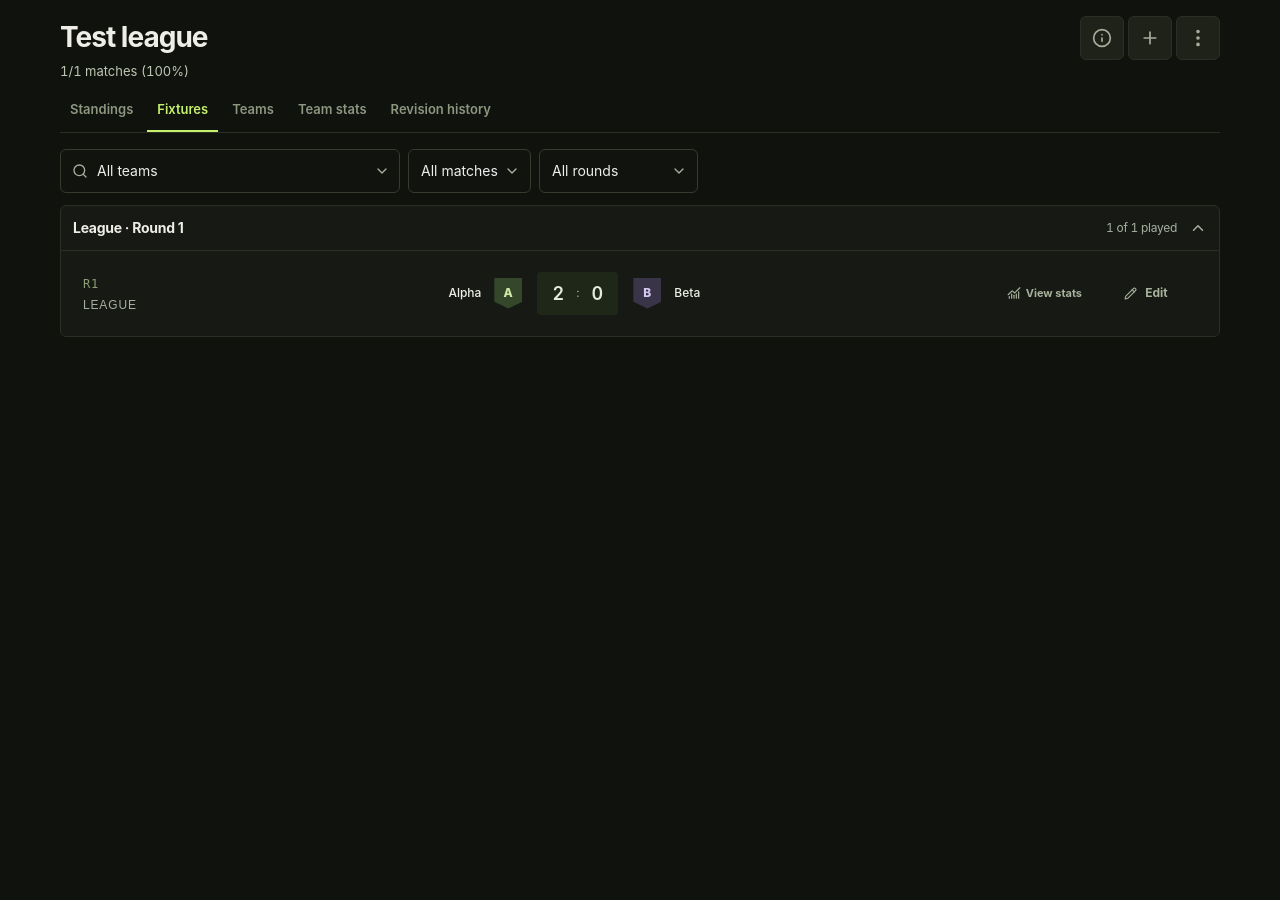
Scenario: fixture stats availability: admin=true, enabled=true, played=true
Click the button with aria-label "View stats: Alpha vs Beta" at (1044, 293), box [998,275,1091,311]
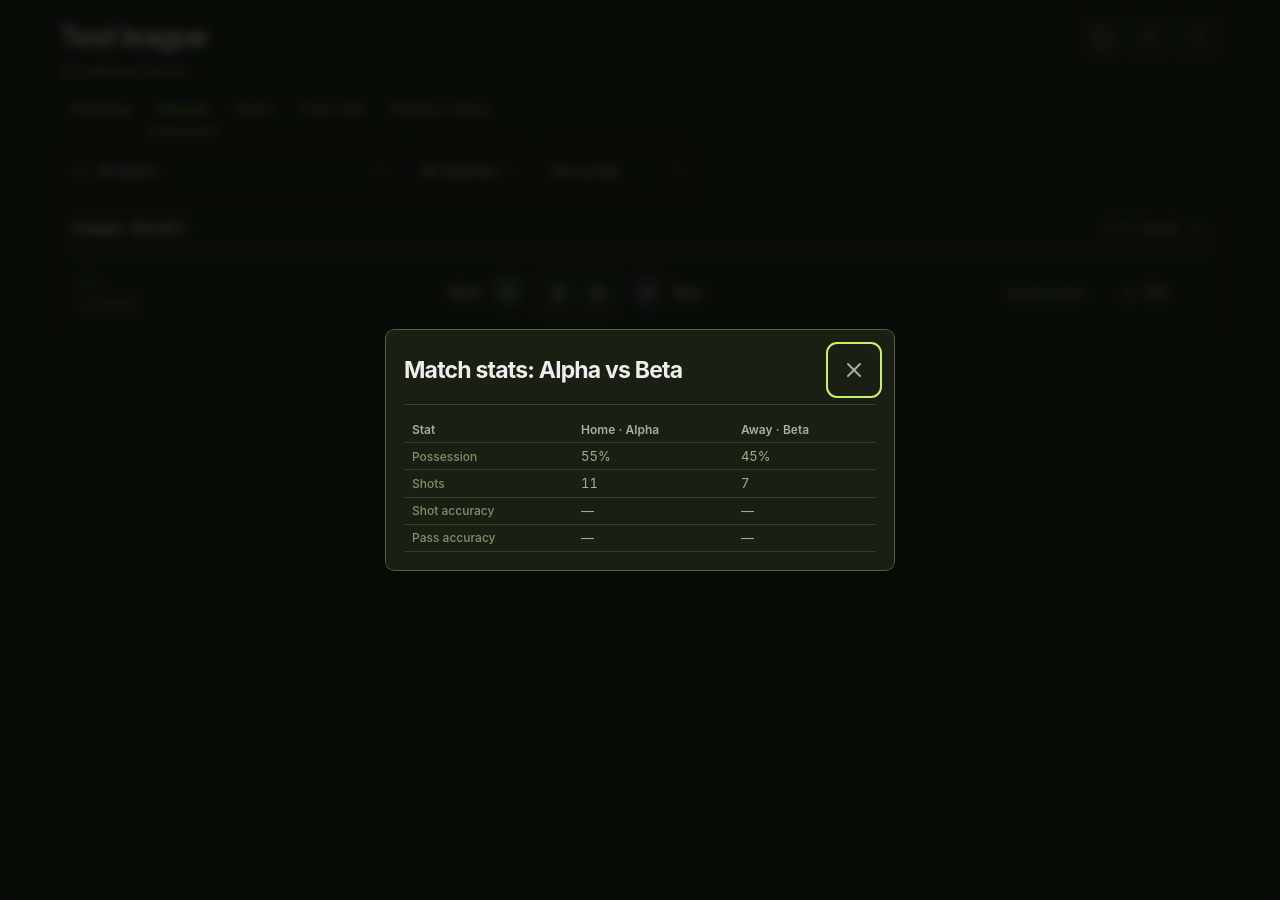
Now the column heading "Possession" is shown, box [404,442,573,470]
Now the text "55%" is shown, box [573,442,733,470]
Now the text "11" is shown, box [573,470,733,497]
Click the button named "Close dialog" at (854, 370), box [832,348,876,392]
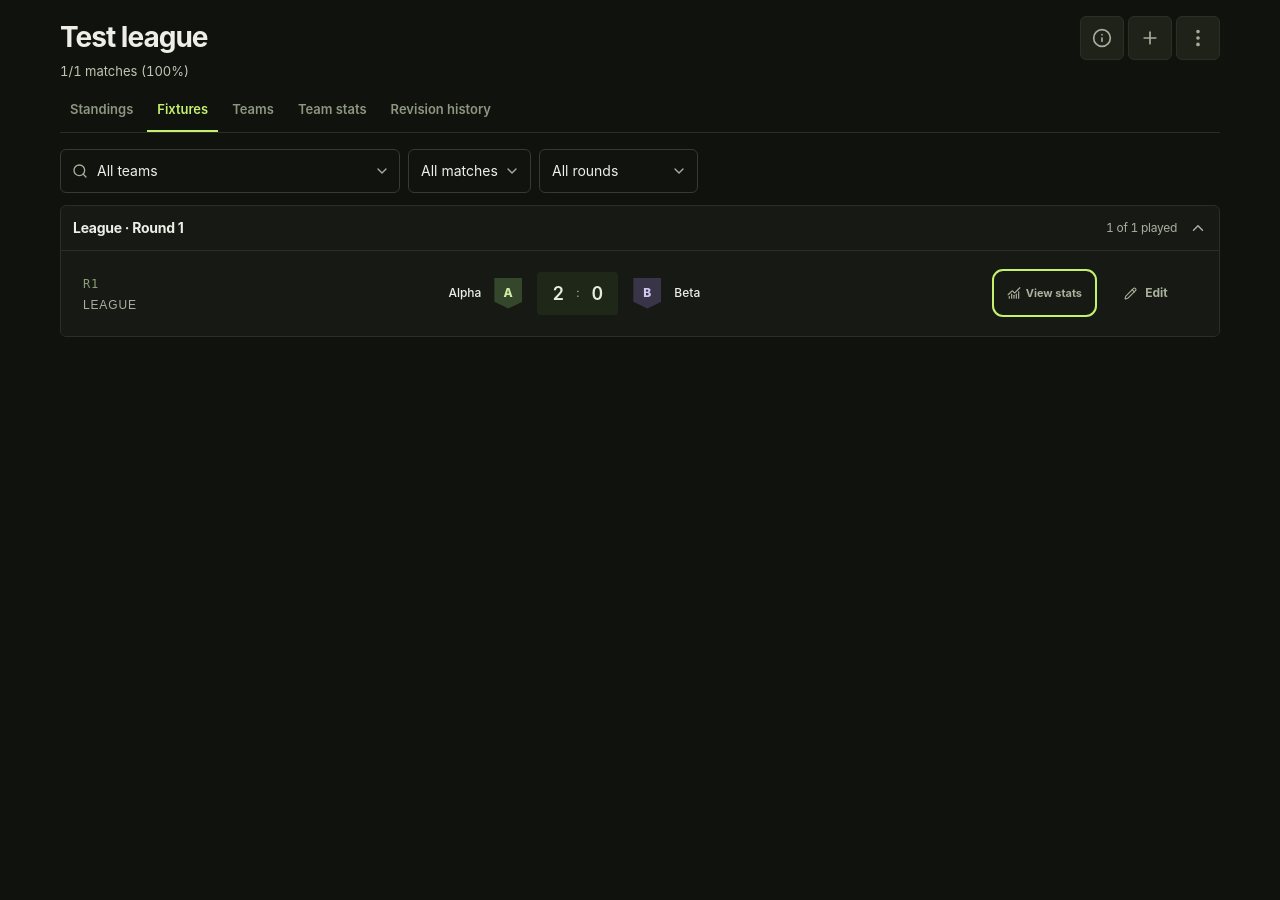
Click the button with aria-label "Edit result: Alpha vs Beta" at (1146, 293), box [1095,274,1197,312]
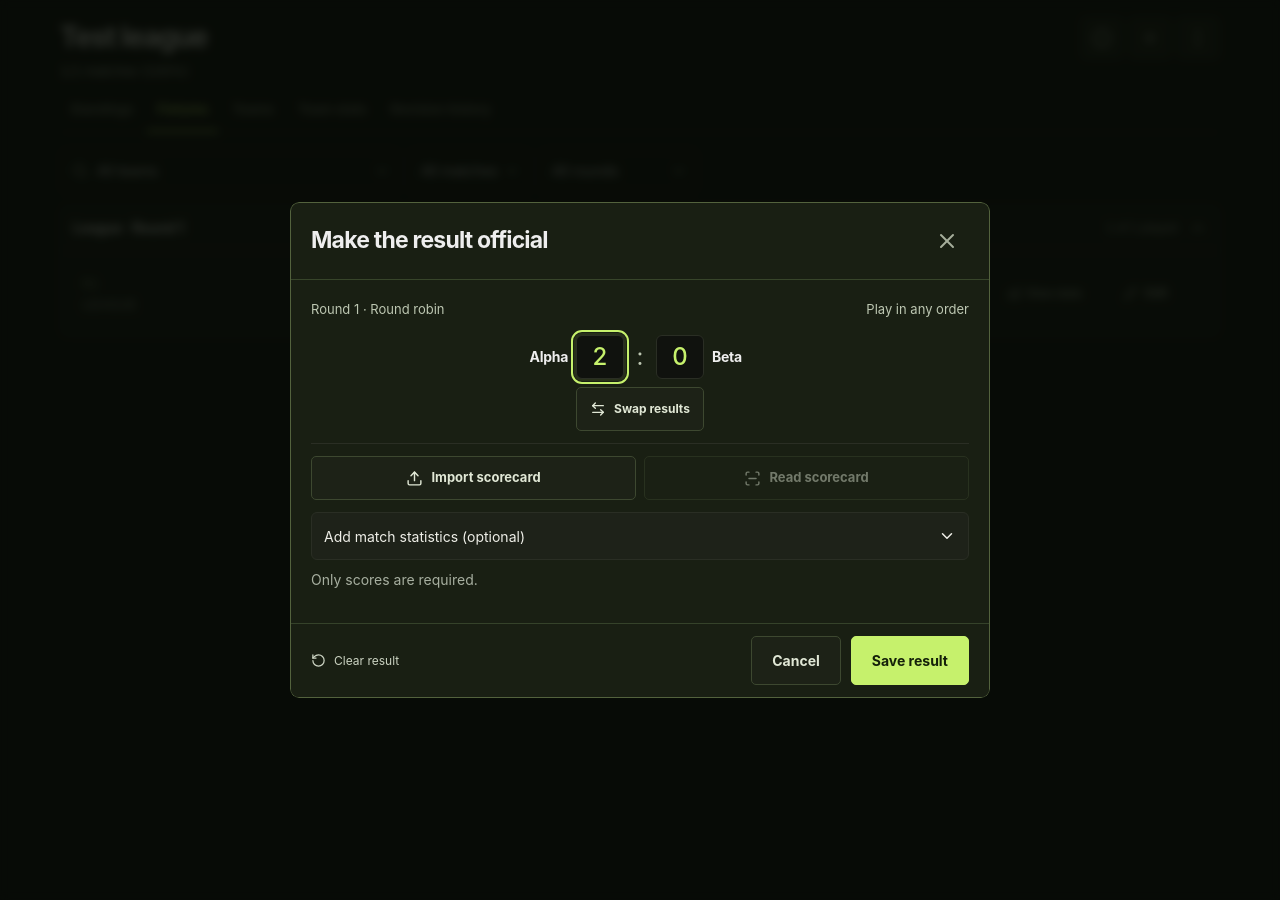
Now the dialog "Make the result official" is shown, box [290,202,990,698]
